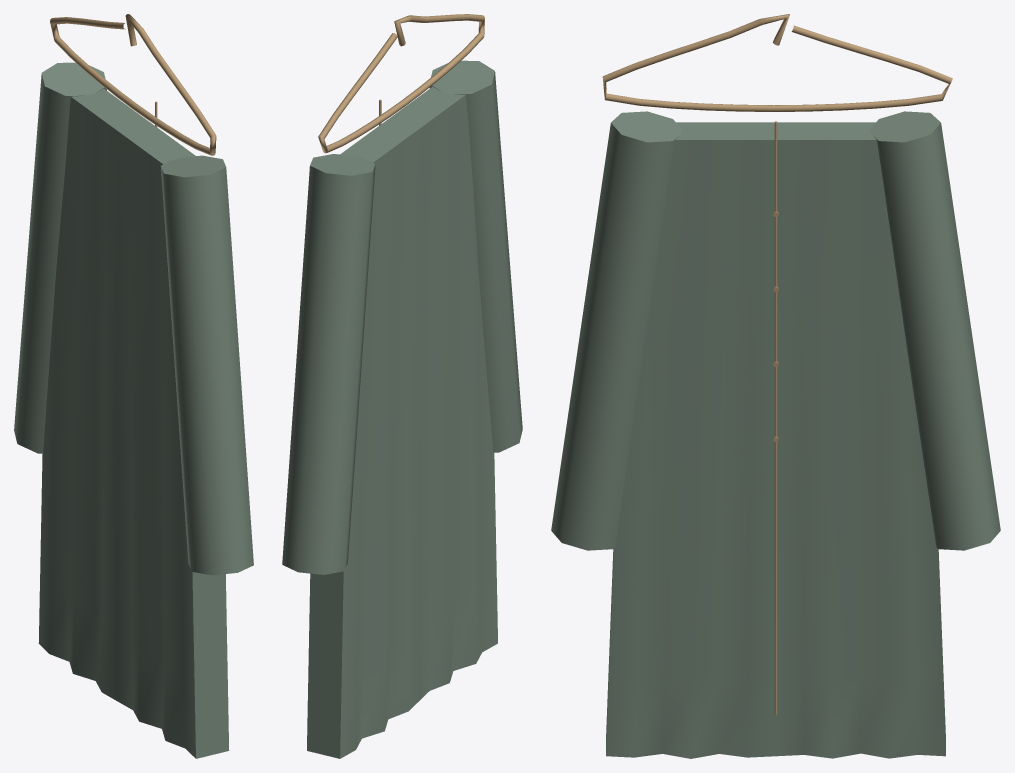
File: coat-balanced-18d00e6767.glb
3 views of the same model, side by side, from view 1: azimuth 30°, elevation 25°; view 2: azimuth 150°, elevation 25°; view 3: azimuth 270°, elevation 25° (orthographic). The views are drawn at different scales.
Visible parts, largest first — view 1: sage, oak; view 2: sage, oak; view 3: sage, oak.
Boxes of the visible parts, x1,y1,x2,y2 form: sage: [14, 62, 253, 758]; oak: [50, 14, 216, 155]; sage: [282, 60, 522, 758]; oak: [318, 14, 484, 153]; sage: [551, 111, 1000, 758]; oak: [602, 14, 952, 714].
Size of the model in its own units: 0.08 by 0.88 by 0.4893.
